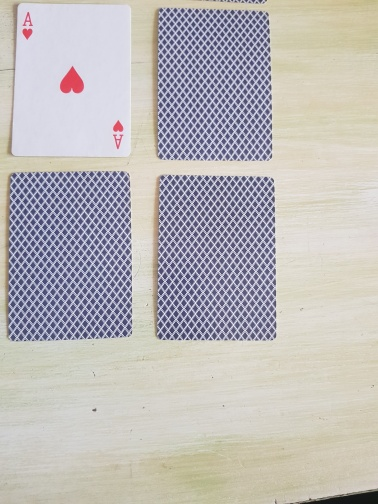ace: (9, 2, 135, 158)
